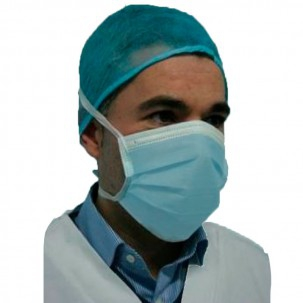mask: (121, 131, 228, 238)
